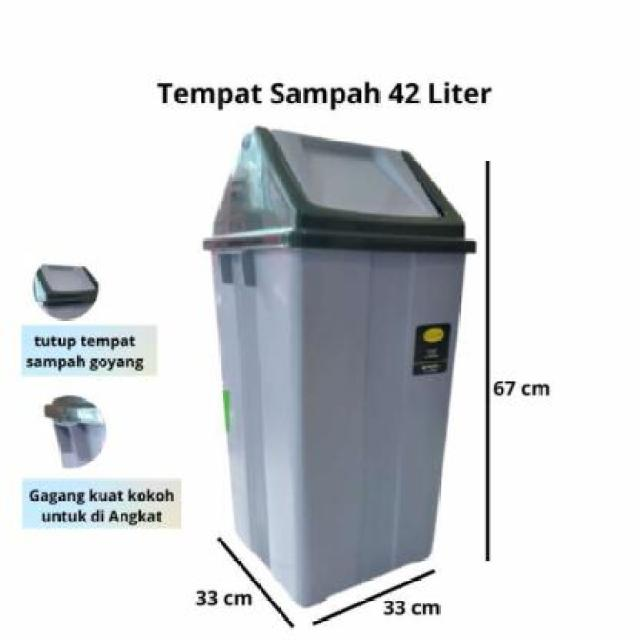garbage container: (192, 118, 480, 620)
